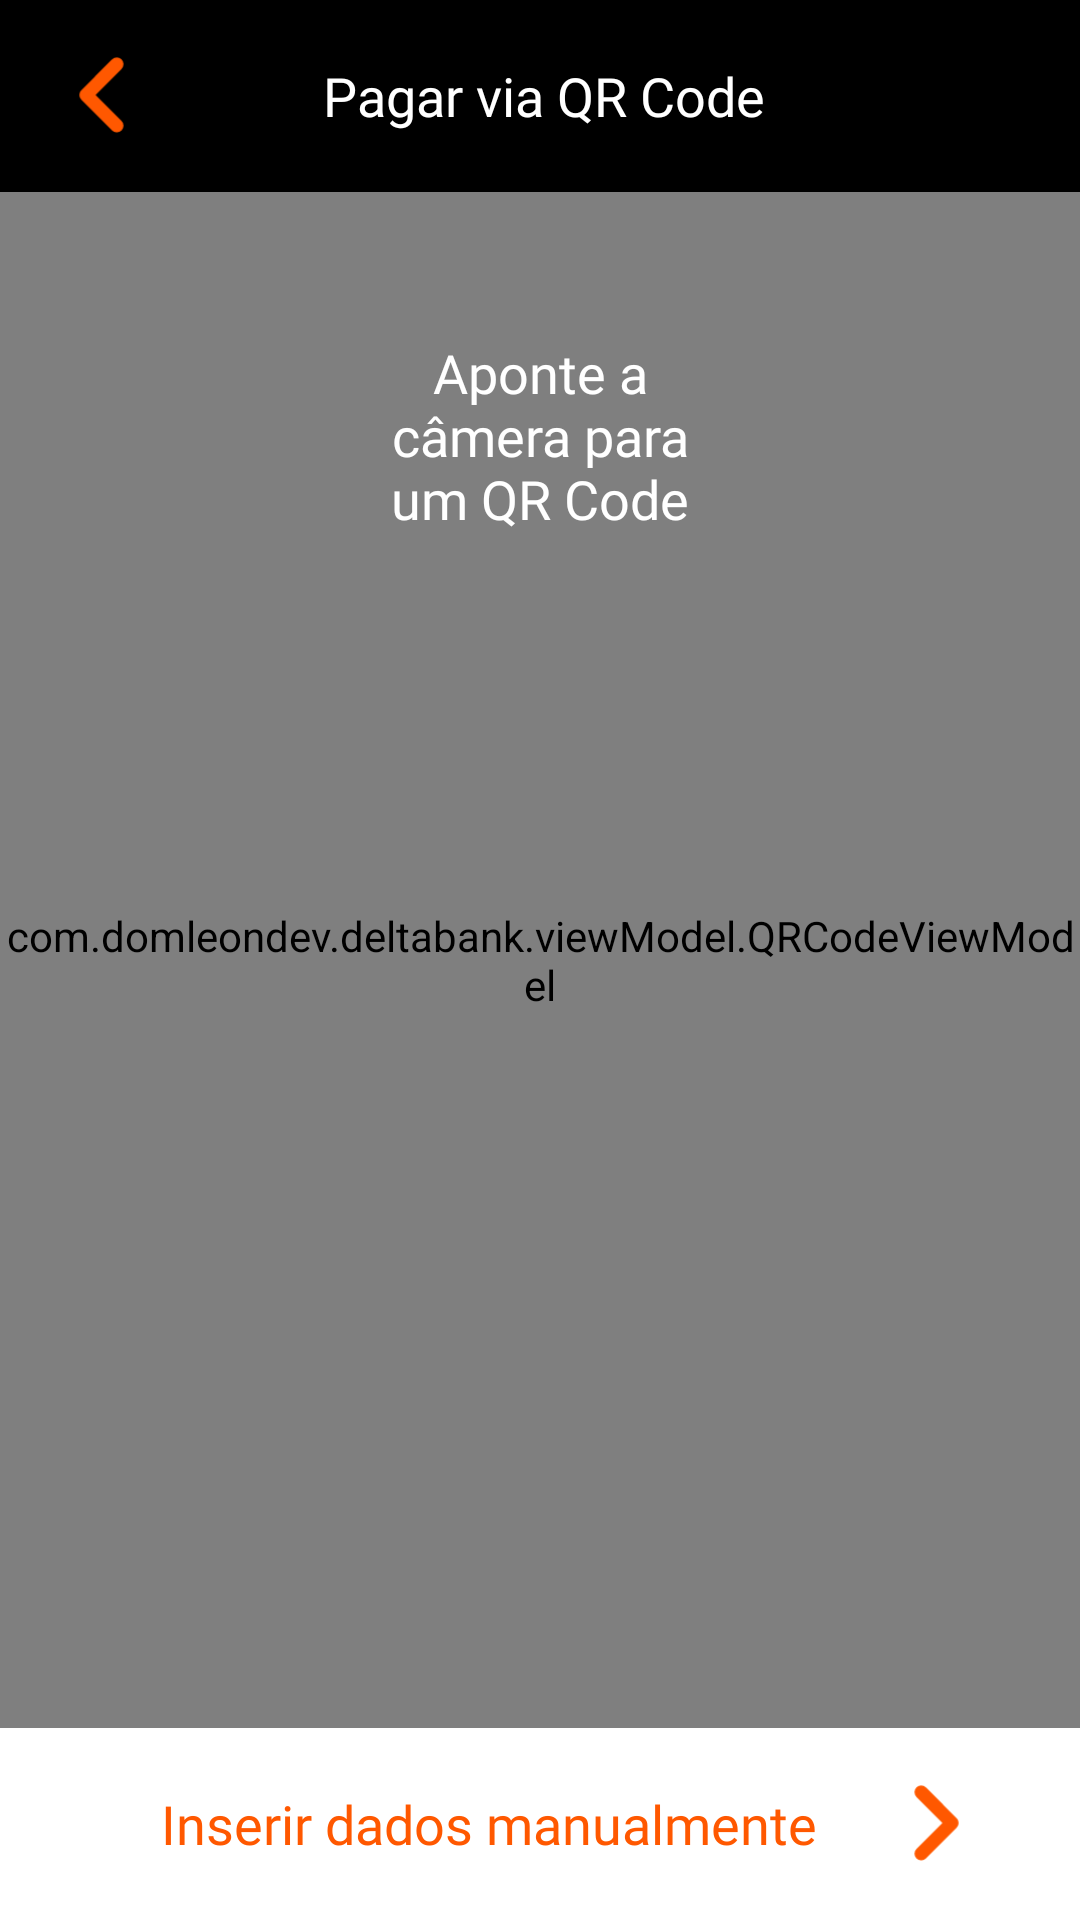

Named icons in this screenshot (1080 × 1920) and their centers, point (x, y):
Seta de voltar: point (101, 95)
